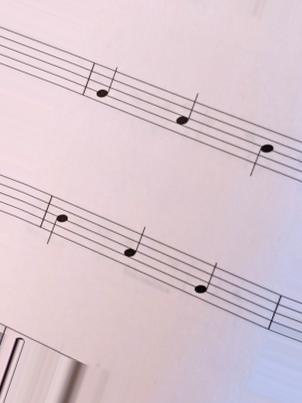note: (245, 110, 275, 182), (43, 188, 70, 257), (192, 250, 220, 314), (122, 218, 148, 285), (93, 56, 119, 117), (176, 88, 200, 147)
